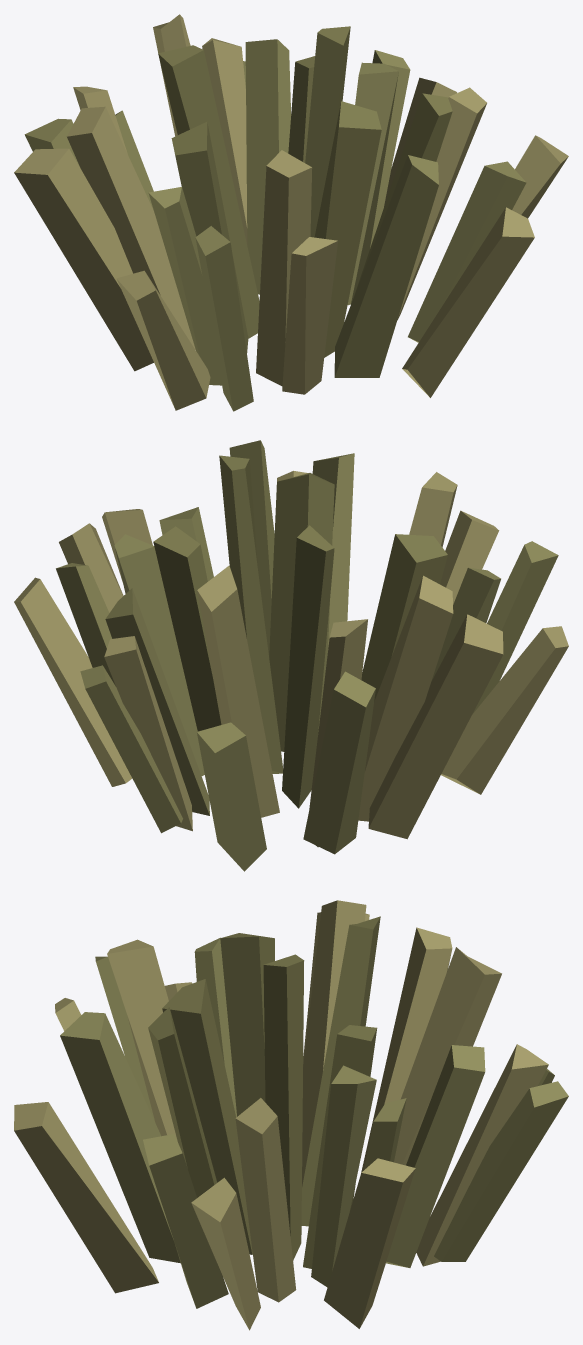
File: desert_scrub.glb
3 renders of one model, top to bottom at view 1: azimuth 30°, elevation 25°; view 2: azimuth 150°, elevation 25°; view 3: azimuth 270°, elevation 25°, orthographic. The views are drawn at different scales.
Parts seen in each view (by area): view 1: desert_scrub; view 2: desert_scrub; view 3: desert_scrub.
Boxes of the visible parts, box(x1,y1,x2,y2) form: desert_scrub: box(14, 14, 568, 411); desert_scrub: box(14, 440, 568, 871); desert_scrub: box(14, 900, 568, 1330).
Size of the model in its own units: 1.98 by 1.2 by 1.84.
